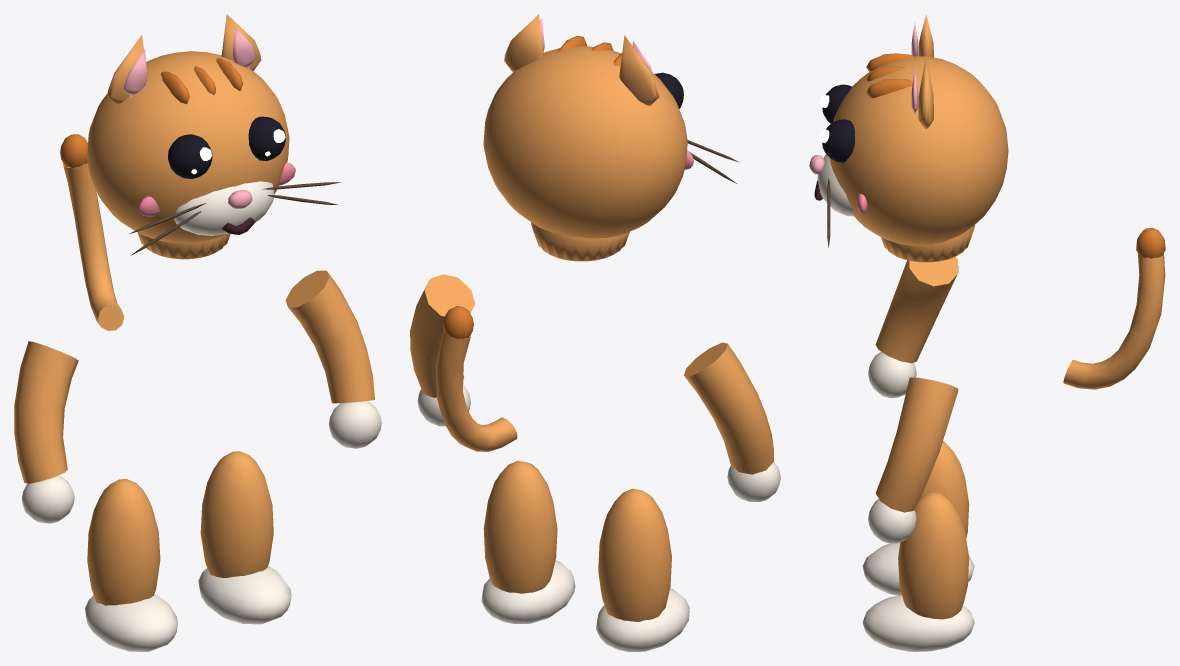
The model's file is tb_dyr_katt.glb.
3 views of the same model, side by side, from view 1: azimuth 30°, elevation 25°; view 2: azimuth 150°, elevation 25°; view 3: azimuth 270°, elevation 25° (orthographic). The views are drawn at different scales.
Parts seen in each view (by area): view 1: hode, bein_vf, bein_hf, vinge_v, vinge_h, hale; view 2: hode, bein_vf, bein_hf, vinge_v, hale, vinge_h; view 3: hode, bein_hf, vinge_h, vinge_v, hale, bein_vf.
Part boxes in pixels (bbox=[...]): hode: bbox=[87, 14, 340, 259]; bein_vf: bbox=[85, 479, 177, 651]; bein_hf: bbox=[198, 451, 291, 624]; vinge_v: bbox=[14, 341, 78, 523]; vinge_h: bbox=[285, 270, 381, 448]; hale: bbox=[60, 134, 124, 330]; hode: bbox=[483, 14, 739, 261]; bein_vf: bbox=[596, 488, 689, 651]; bein_hf: bbox=[481, 461, 575, 623]; vinge_v: bbox=[684, 342, 780, 501]; hale: bbox=[436, 306, 517, 451]; vinge_h: bbox=[410, 274, 474, 426]; hode: bbox=[809, 14, 1008, 262]; bein_hf: bbox=[862, 492, 974, 651]; vinge_h: bbox=[868, 377, 958, 543]; vinge_v: bbox=[868, 256, 958, 398]; hale: bbox=[1063, 227, 1165, 389]; bein_vf: bbox=[862, 441, 974, 595].
Size of the model in its own units: 1.06 by 1.72 by 0.9517.
